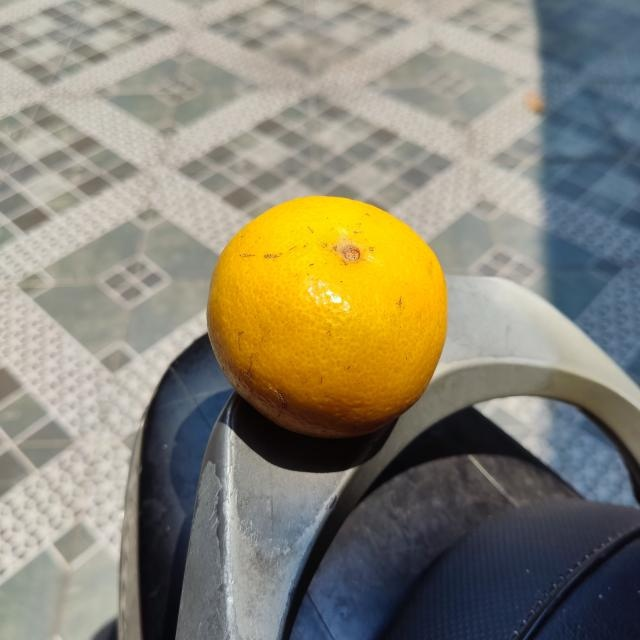agrume: (204, 193, 449, 440)
